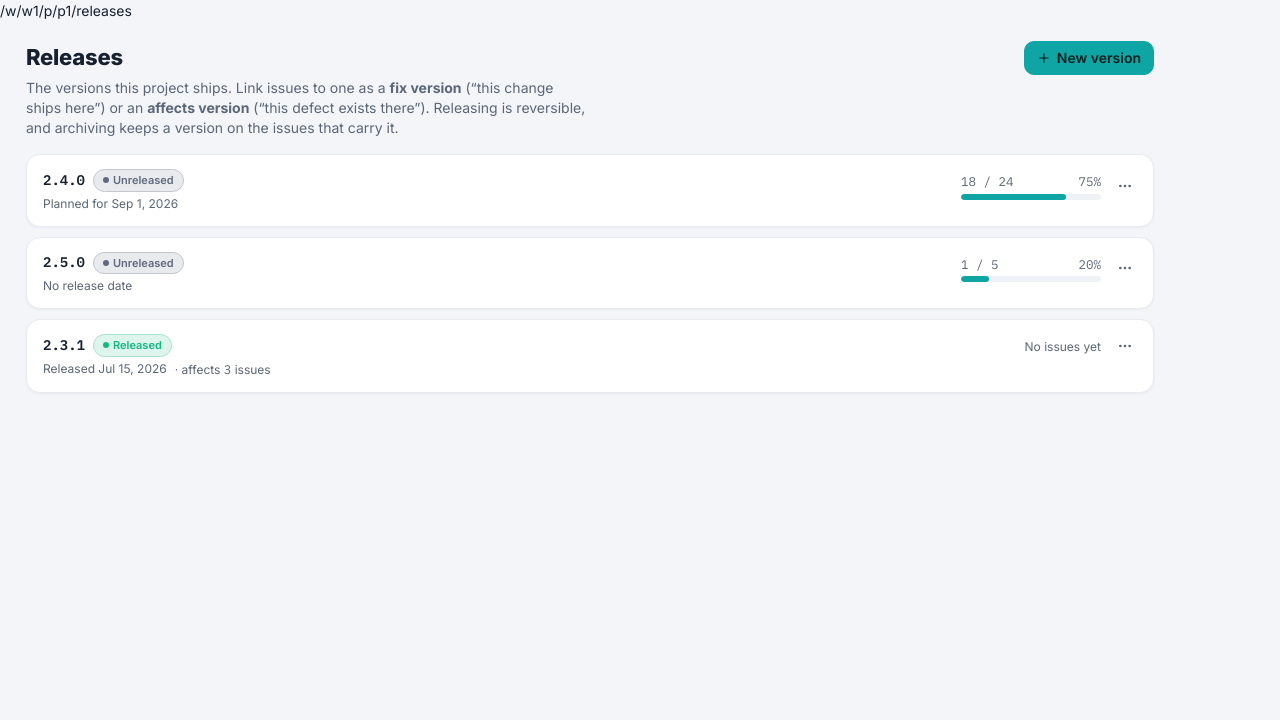
Test: ReleasesPage — lifecycle actions › offers the "move N unresolved issues to" select only when unresolved work exists
Click the button named "Actions for 2.4.0" at (1125,186), box [1113,174,1137,198]
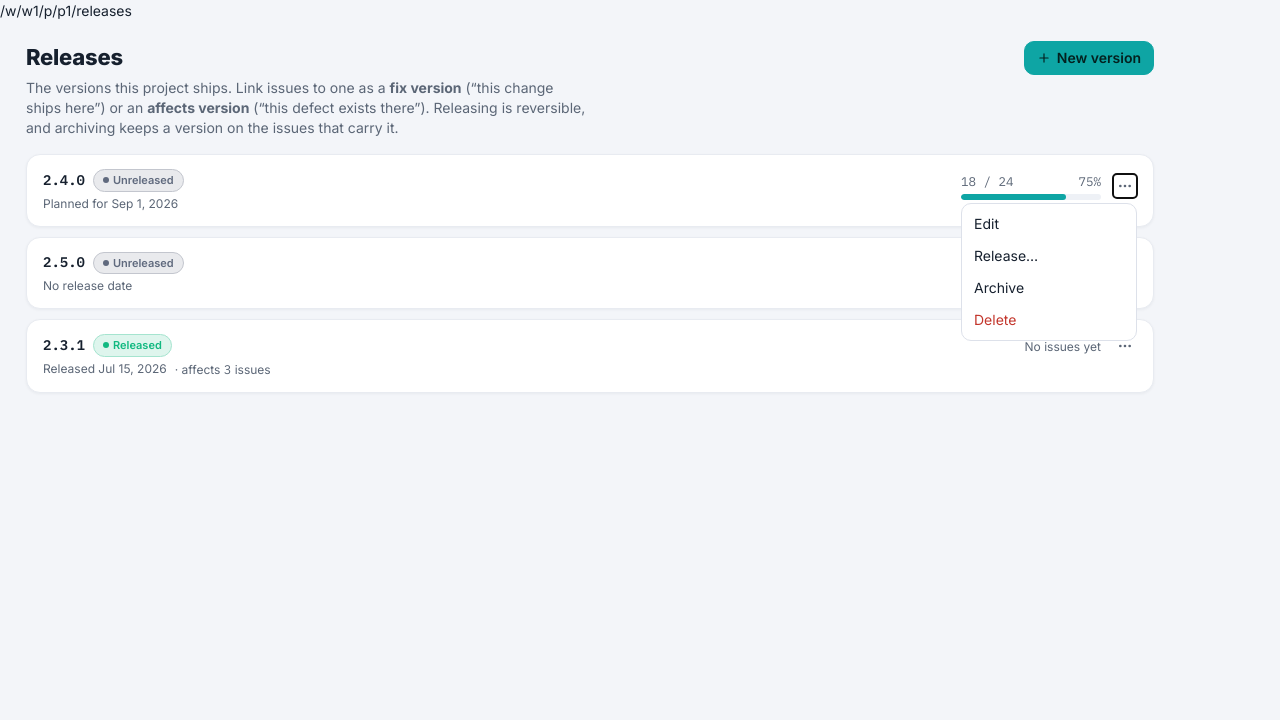
Click the menu item "Release…" at (1049,256), box [962,240,1136,272]
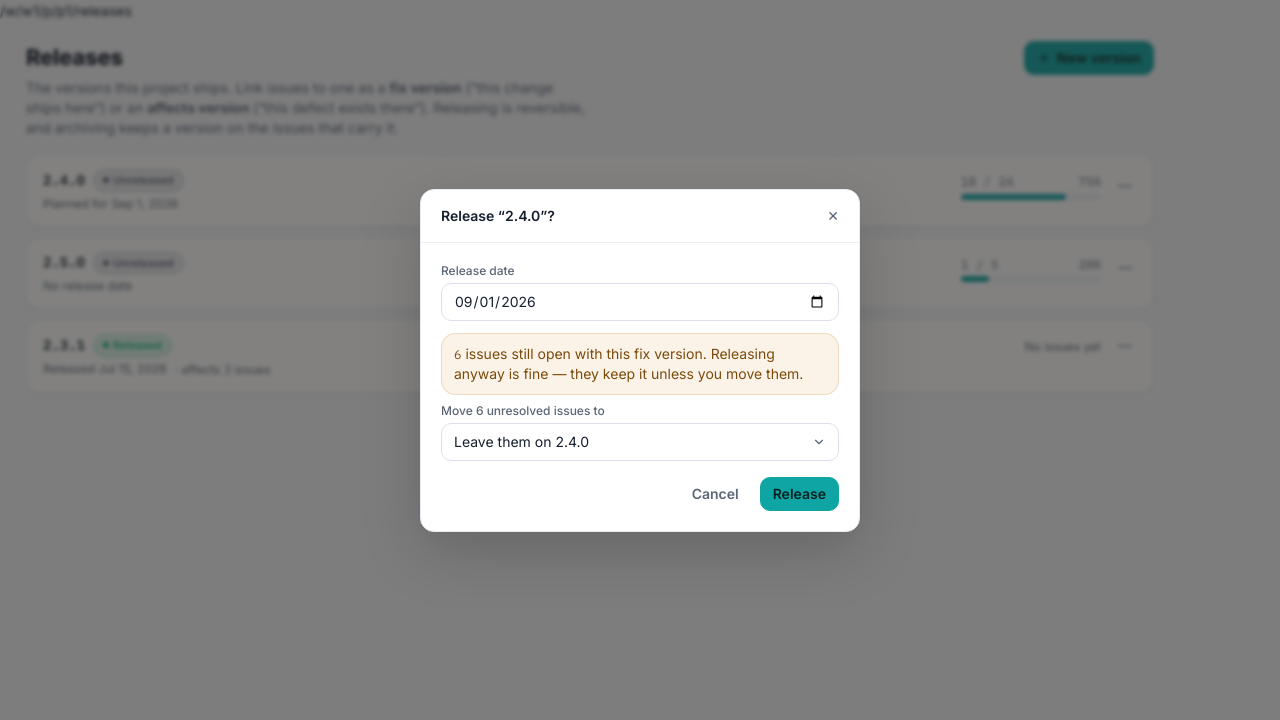
Click the button named "Move 6 unresolved issues to" at (505,441), box [441,422,839,460]
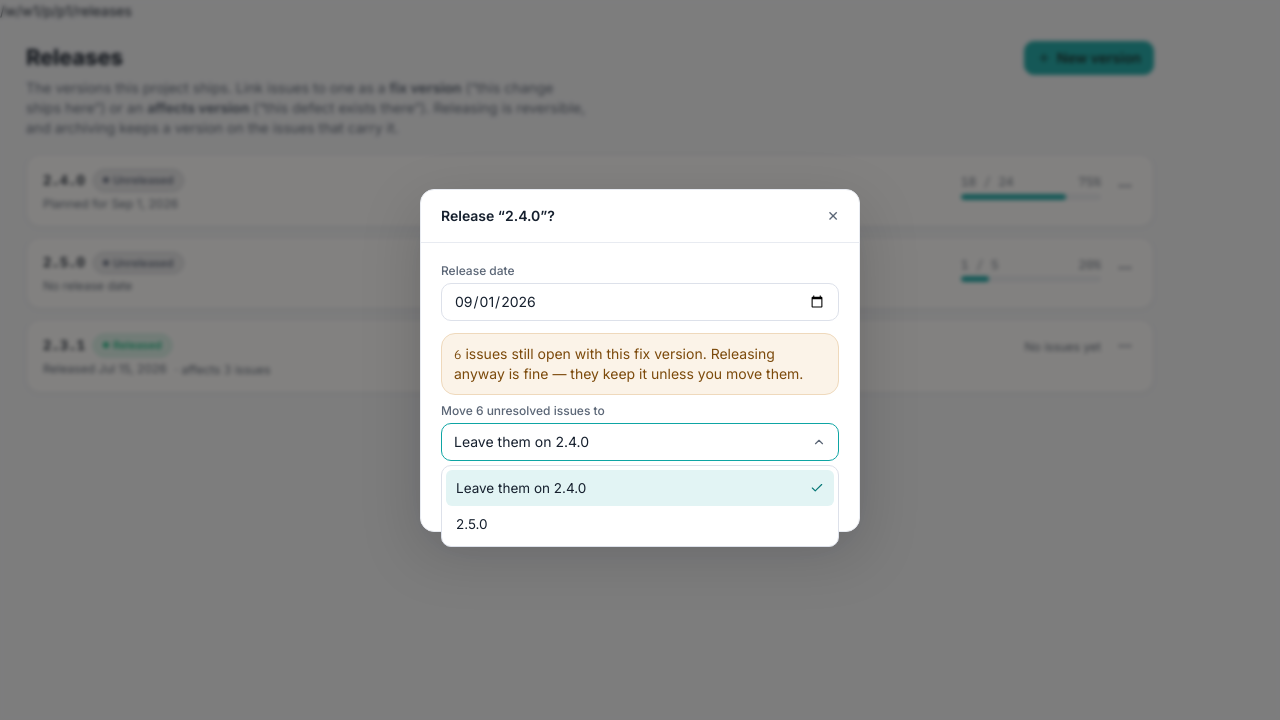
Result: the option "2.5.0" is shown at [456,516,488,532]
